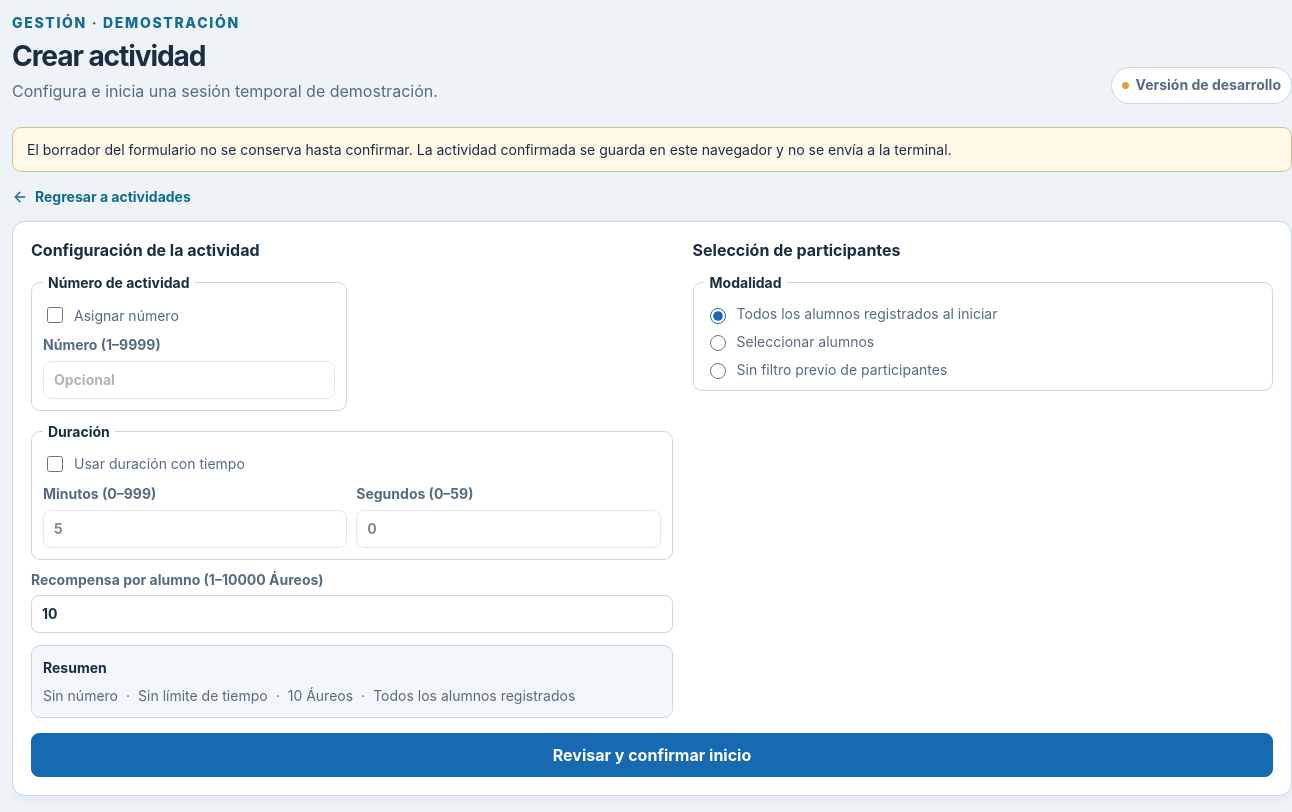
Test: PM.6 interfaz de actividades › aplica Elegir todos, Limpiar e Invertir, y actualiza el contador y el resumen
Click the radio button labelled "Seleccionar alumnos" at (718, 343), box left=710, top=335, right=726, bottom=351
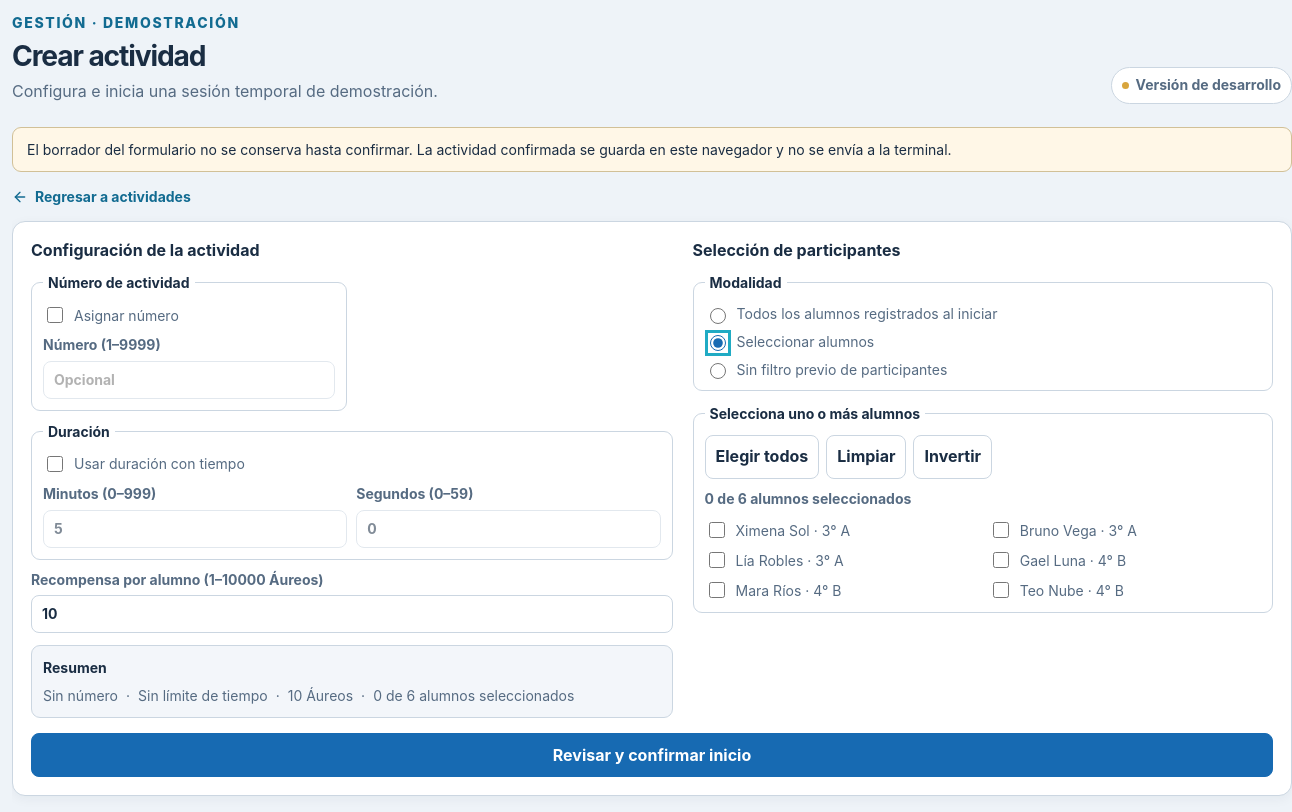
Click the button "Elegir todos" at (762, 457), box left=704, top=435, right=819, bottom=479
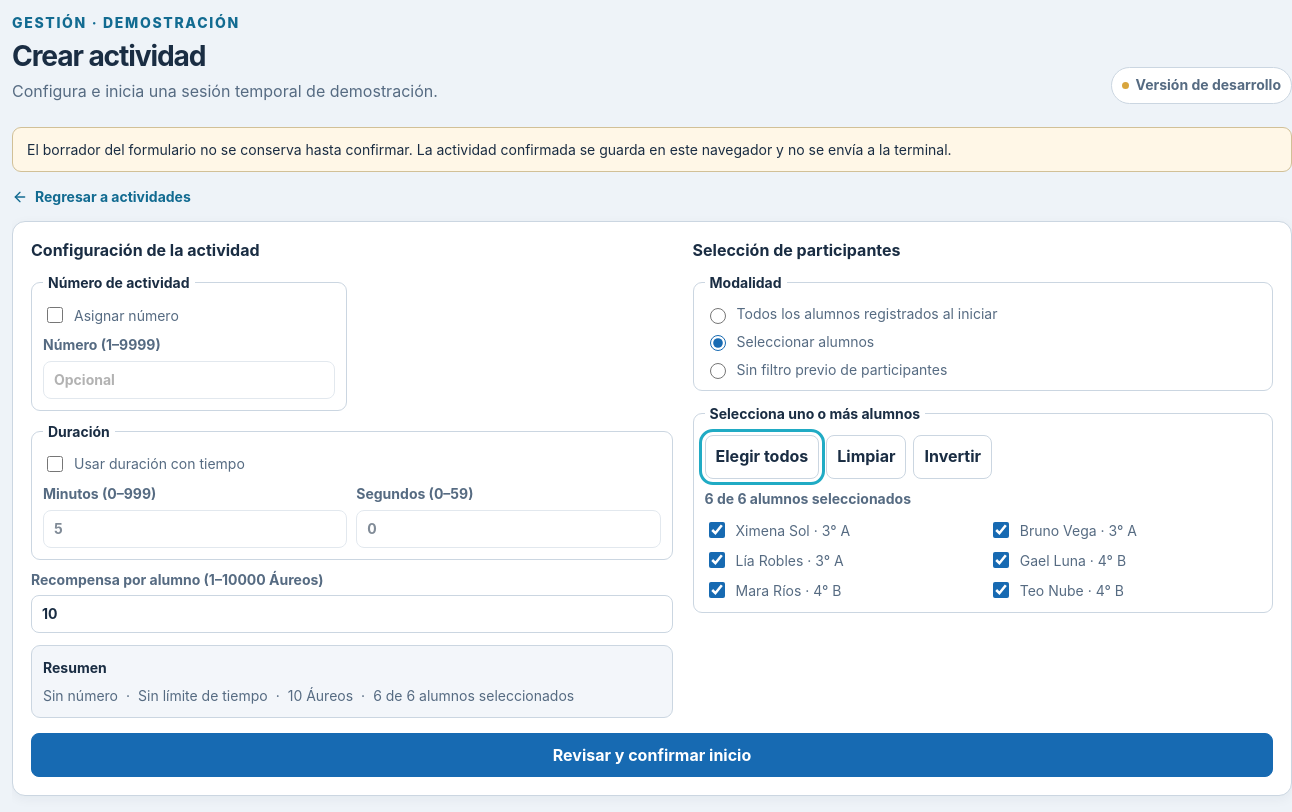
Result: the message reads "6 de 6 alumnos seleccionados" at left=704, top=490, right=911, bottom=507
Result: the text "6 de 6 alumnos seleccionados" is shown at left=361, top=686, right=574, bottom=706
Result: the checkbox labelled "Ximena Sol · 3° A" is checked at left=708, top=522, right=724, bottom=538
Click the button "Limpiar" at (866, 457), box left=826, top=435, right=906, bottom=479
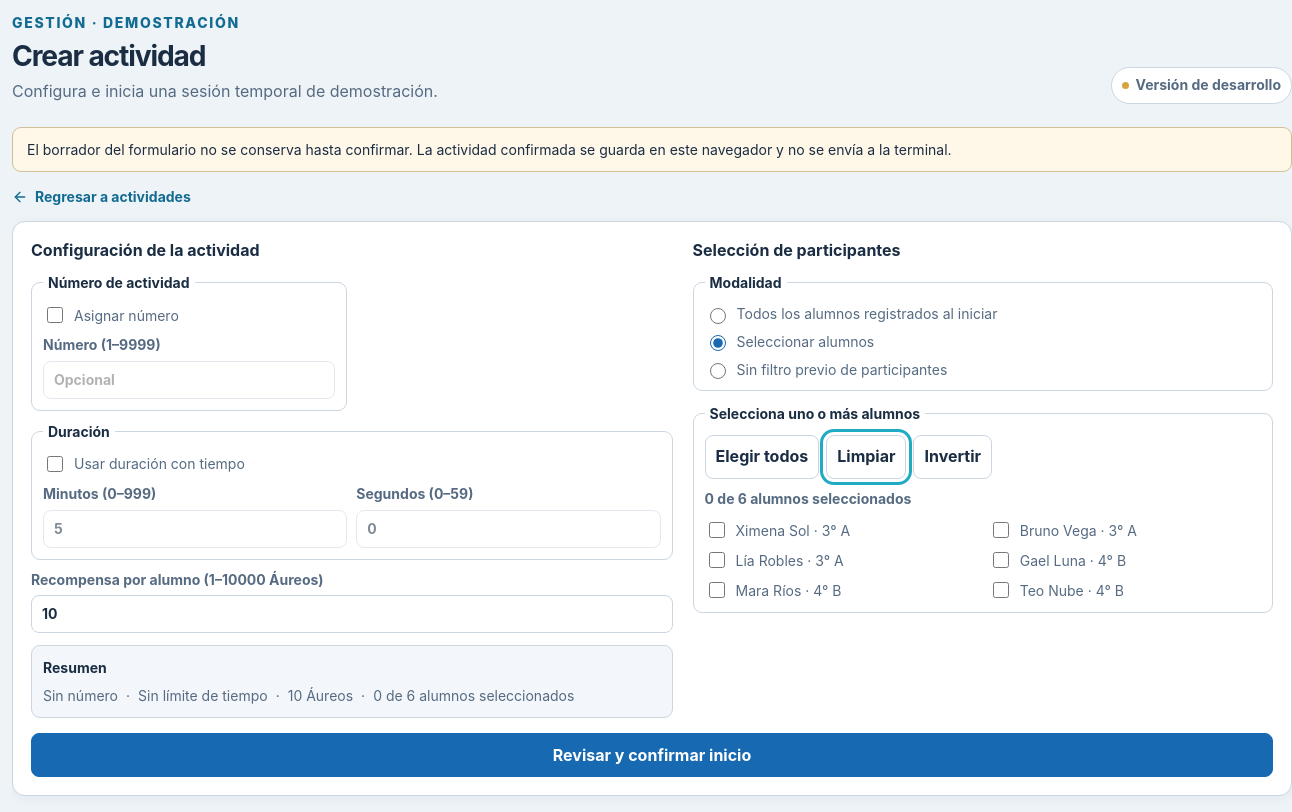
Result: the message reads "0 de 6 alumnos seleccionados" at left=704, top=490, right=911, bottom=507
Result: the text "0 de 6 alumnos seleccionados" is shown at left=361, top=686, right=574, bottom=706
Result: the checkbox labelled "Ximena Sol · 3° A" is not checked at left=708, top=522, right=724, bottom=538
Click the button "Invertir" at (953, 457), box left=914, top=435, right=992, bottom=479
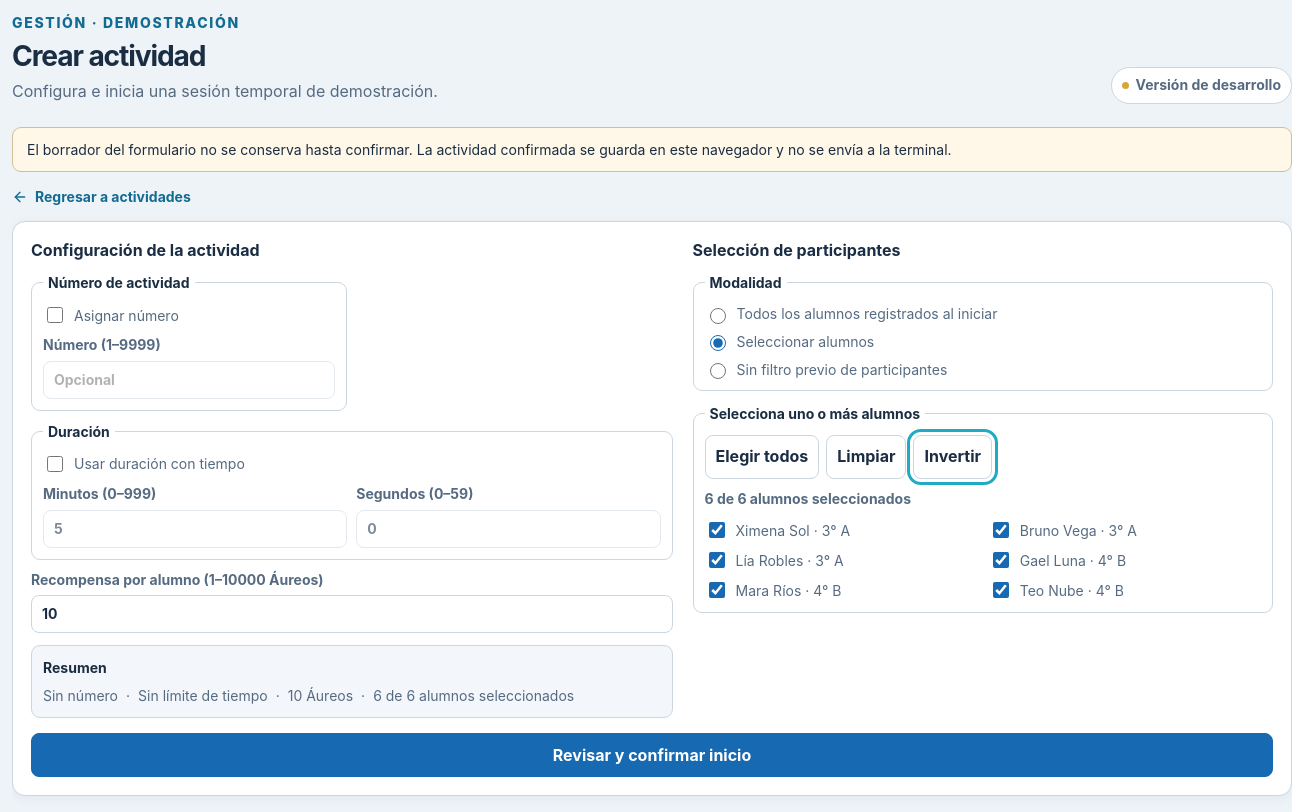
Result: the message reads "6 de 6 alumnos seleccionados" at left=704, top=490, right=911, bottom=507
Result: the checkbox labelled "Teo Nube · 4° B" is checked at left=993, top=582, right=1009, bottom=598
Click the button "Invertir" at (953, 457), box left=914, top=435, right=992, bottom=479
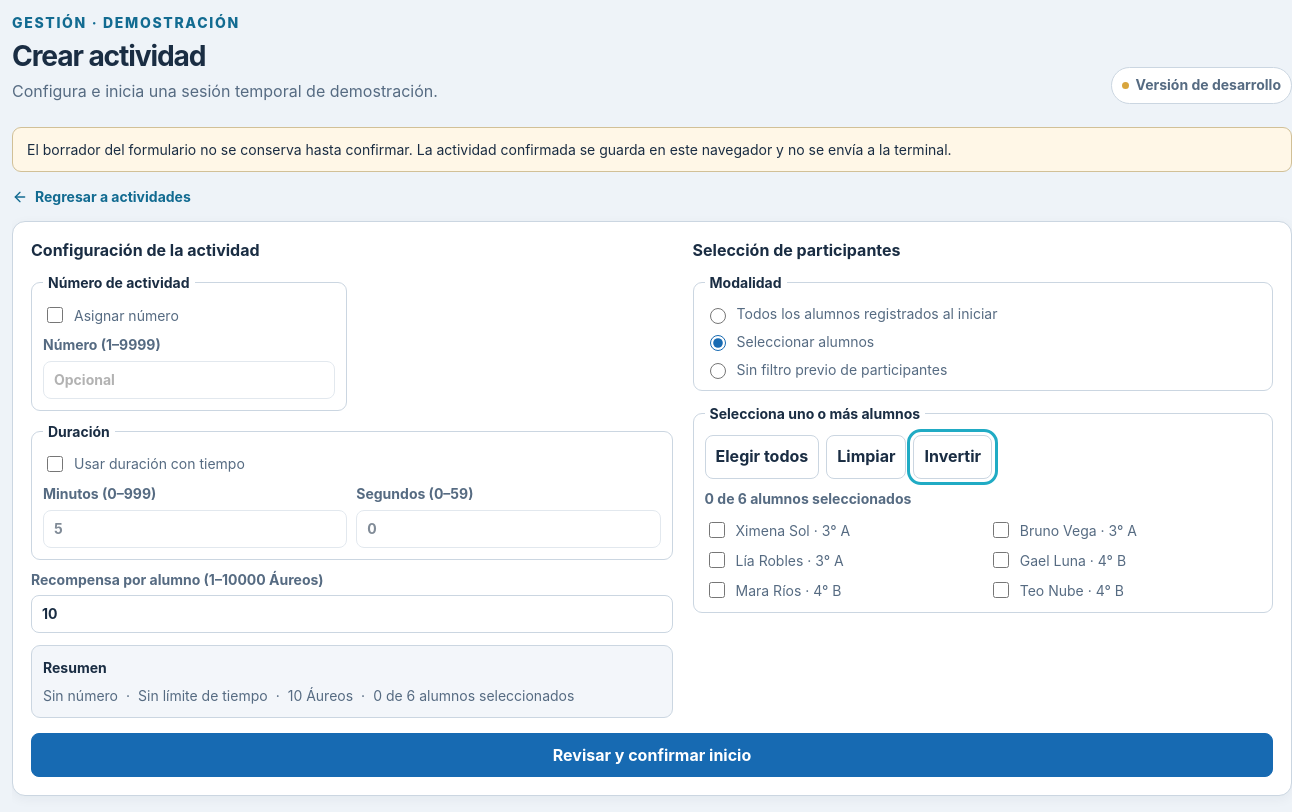
Result: the message reads "0 de 6 alumnos seleccionados" at left=704, top=490, right=911, bottom=507
